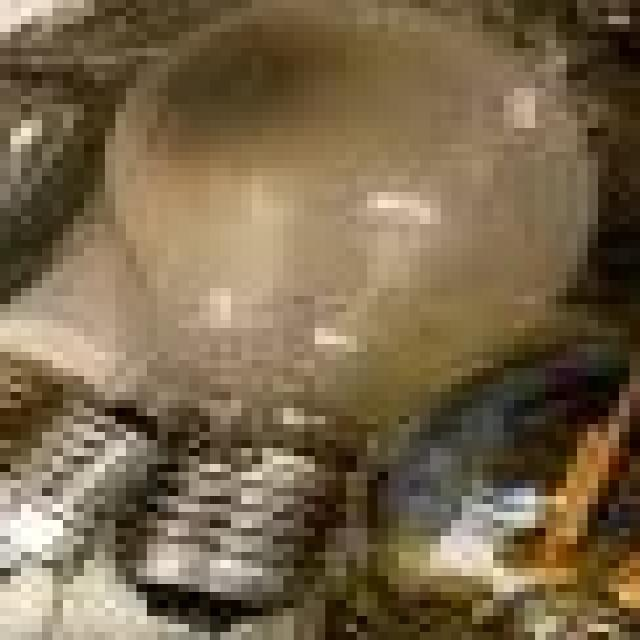bulb: (57, 7, 615, 637)
